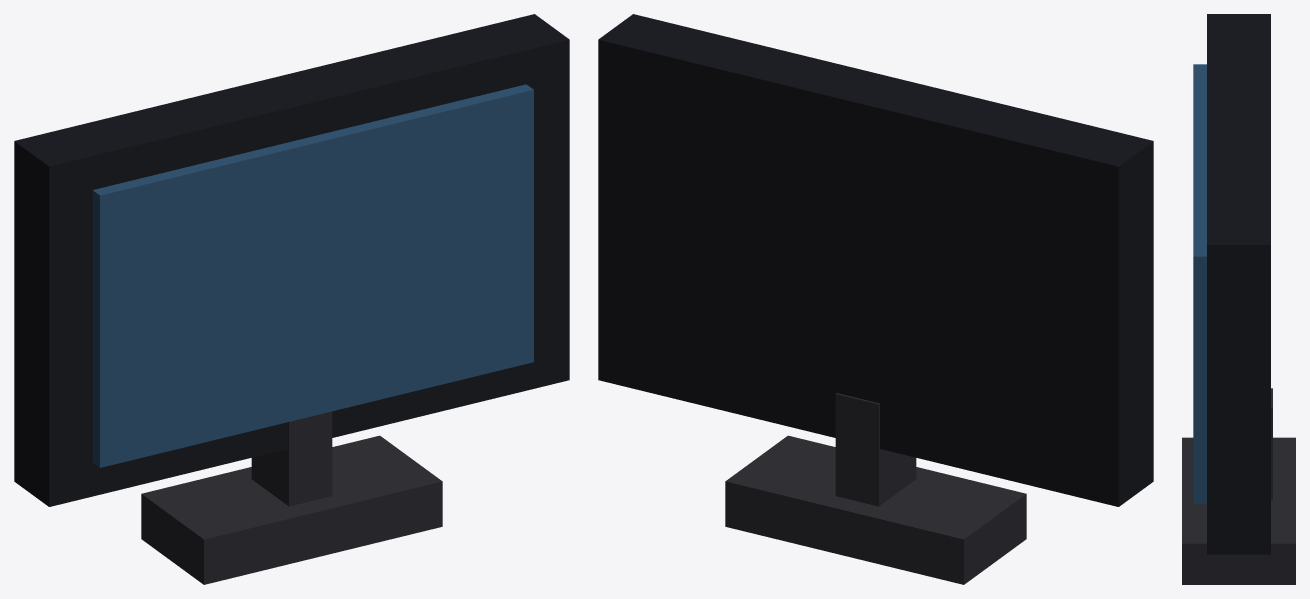
Rendered from item_tv.fbx.
3 views of the same model, side by side, from view 1: azimuth 30°, elevation 25°; view 2: azimuth 150°, elevation 25°; view 3: azimuth 270°, elevation 25° (orthographic). The views are drawn at different scales.
Parts seen in each view (by area): view 1: M__item_tv; view 2: M__item_tv; view 3: M__item_tv.
Part boxes in pixels (x1,y1,x2,y2): M__item_tv: [14, 14, 569, 584]; M__item_tv: [598, 14, 1153, 584]; M__item_tv: [1182, 14, 1295, 584].
Bounding box in the file's own units: 0.24 × 0.195 × 0.05.
